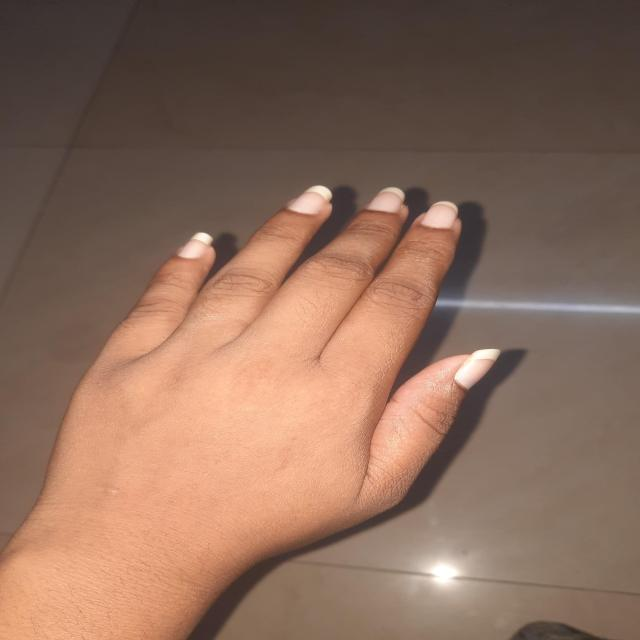nail: (454, 349, 500, 390), (287, 185, 332, 214), (420, 201, 457, 229), (365, 188, 404, 213), (176, 233, 212, 259)
